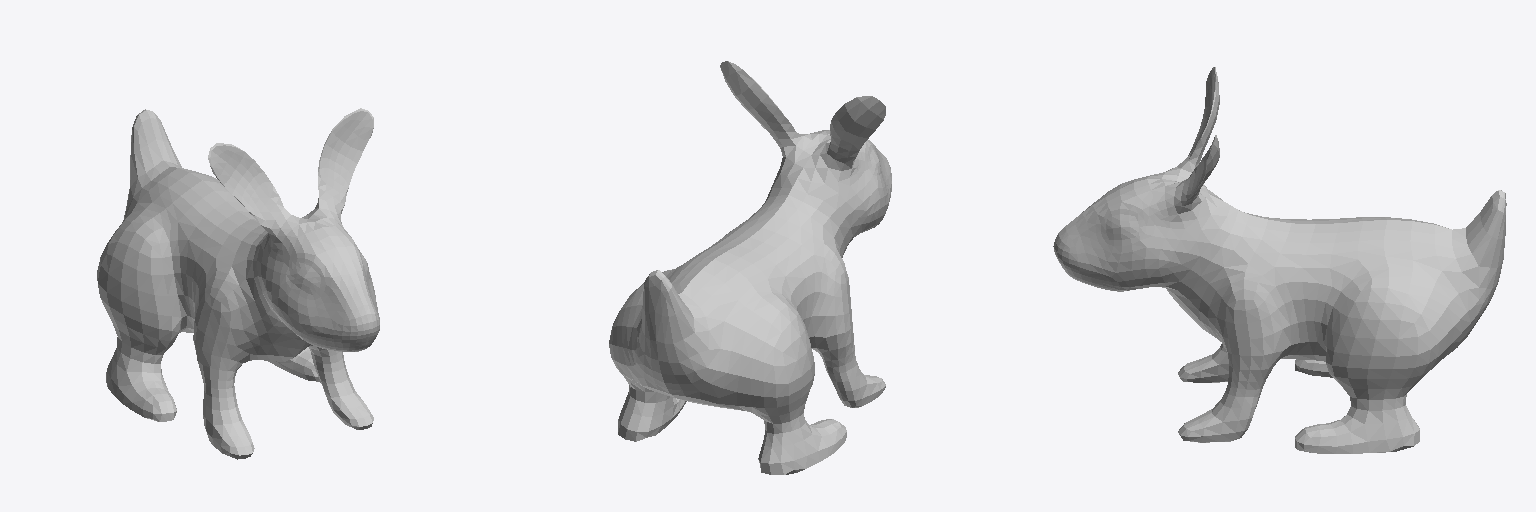
File: bun.obj
3 views of the same model, side by side, from view 1: azimuth 30°, elevation 25°; view 2: azimuth 150°, elevation 25°; view 3: azimuth 270°, elevation 25° (orthographic).
Visible parts, largest first — view 1: Bunny_Mesh Mesh; view 2: Bunny_Mesh Mesh; view 3: Bunny_Mesh Mesh.
Part boxes in pixels (left/top/right/bottom): Bunny_Mesh Mesh: left=97, top=108, right=379, bottom=459; Bunny_Mesh Mesh: left=609, top=61, right=891, bottom=474; Bunny_Mesh Mesh: left=1053, top=67, right=1506, bottom=453.
Bounding box in the file's own units: 248 × 376 × 502.